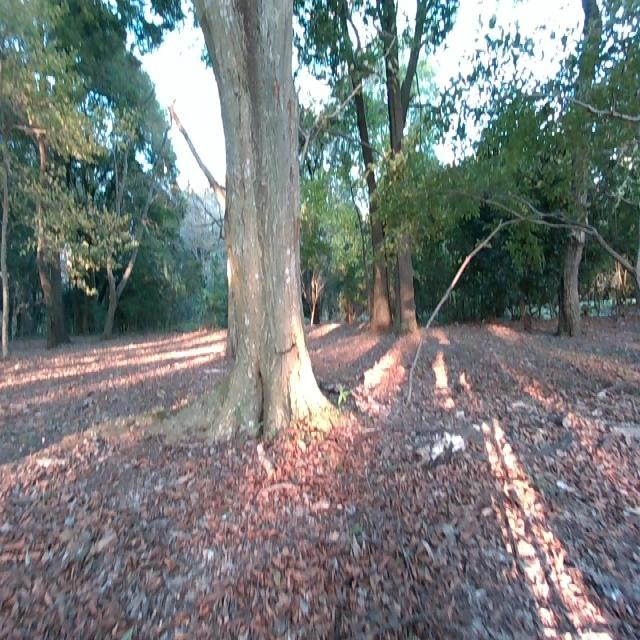tree: (188, 0, 341, 445), (340, 0, 393, 333), (33, 0, 80, 343), (560, 0, 606, 332), (382, 0, 426, 330), (102, 122, 163, 327), (0, 160, 18, 356)
